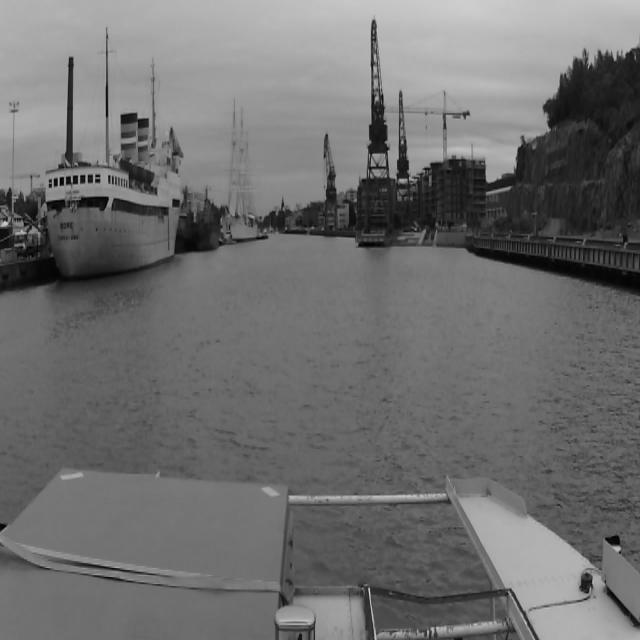ship: (44, 26, 184, 293), (226, 94, 259, 243), (193, 182, 220, 252)
